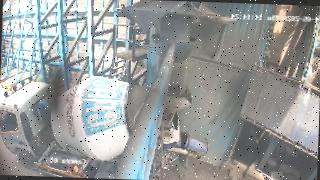cement_mixer_truck: (0, 76, 194, 180)
swing_chute: (152, 34, 198, 97)
